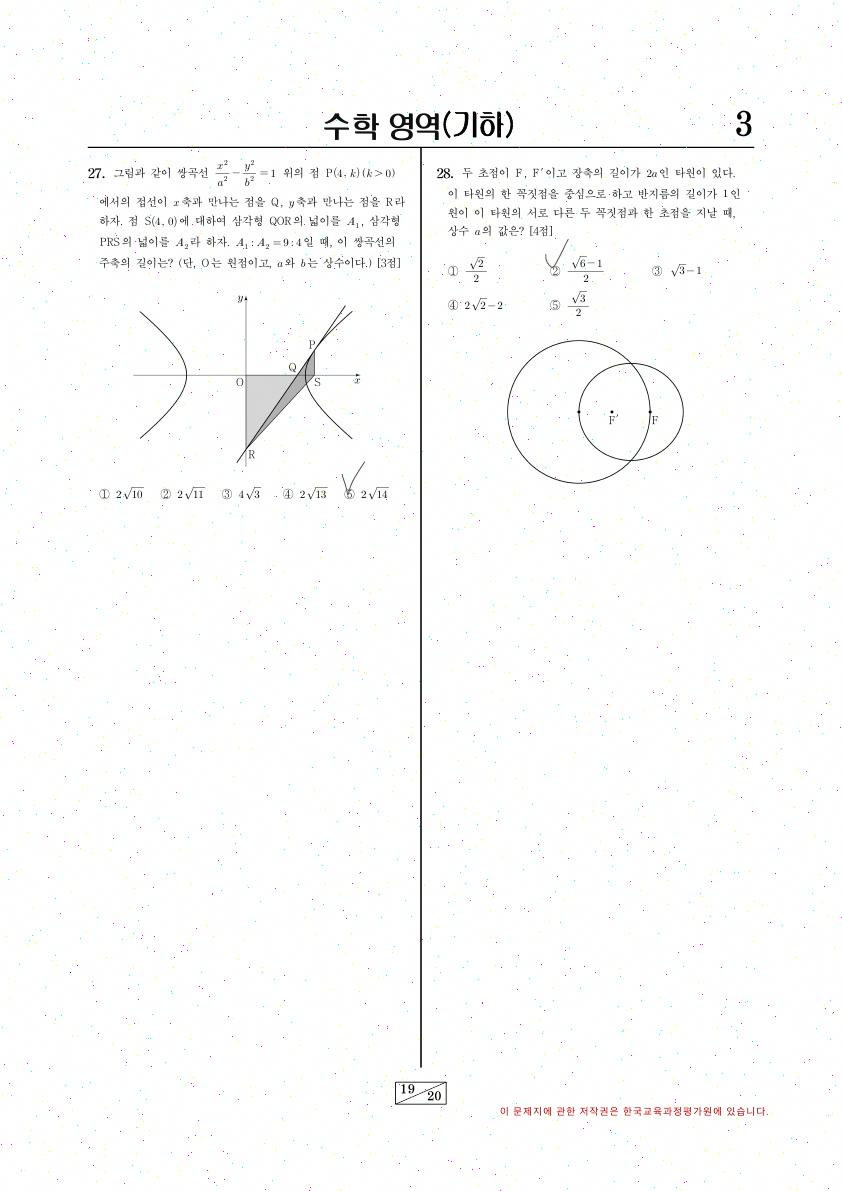question: (73, 151, 411, 518), (426, 152, 754, 494)
